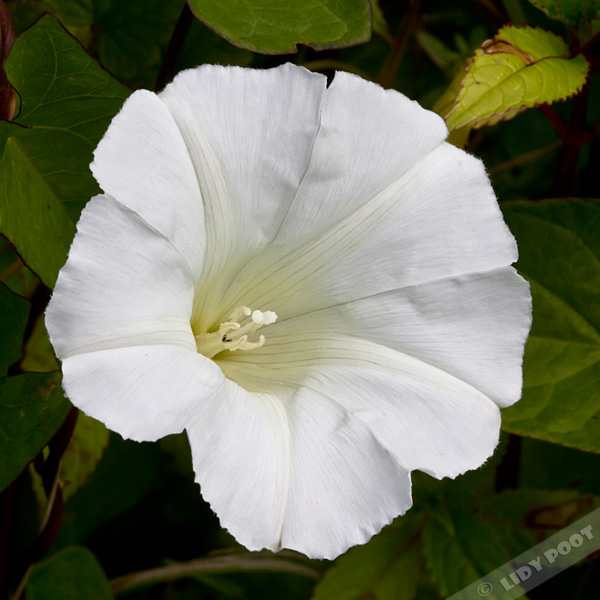haagwinde: (29, 46, 551, 573)
